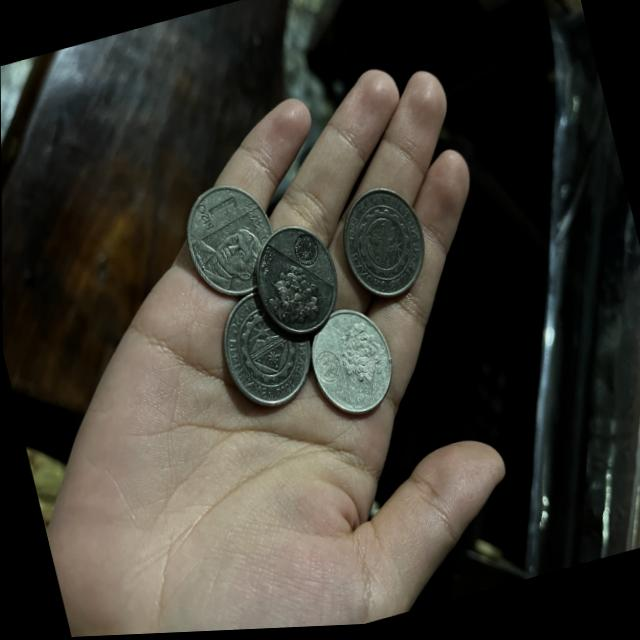1_New_Back: (332, 317, 395, 404), (254, 262, 323, 340)
1_New_Front: (188, 187, 255, 240)
1_Old_Back: (210, 284, 319, 416), (333, 181, 431, 310)
